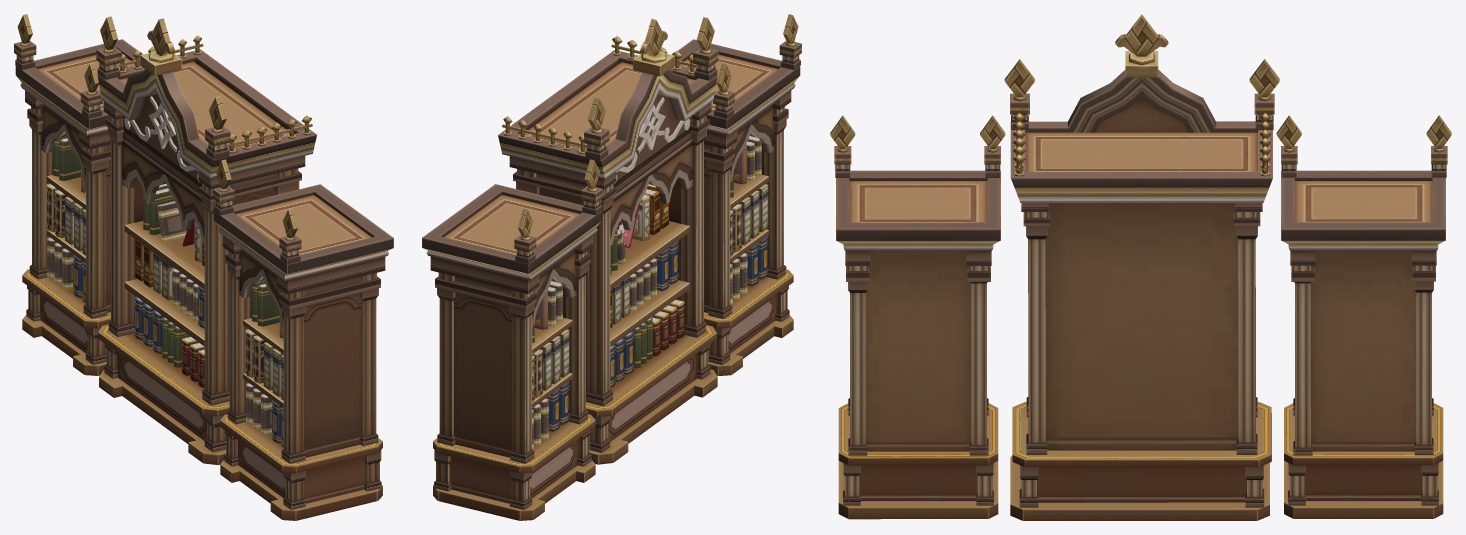
The model's file is my_trinityclassroom_01_bookshelf_01.glb.
The picture shows the model from 3 angles, left to right: view 1: azimuth 30°, elevation 25°; view 2: azimuth 150°, elevation 25°; view 3: azimuth 270°, elevation 25°; orthographic projection. The views are drawn at different scales.
Visible parts, largest first — view 1: my_trinityclassroom_01_bookshelf_01; view 2: my_trinityclassroom_01_bookshelf_01; view 3: my_trinityclassroom_01_bookshelf_01.
Boxes of the visible parts, x1,y1,x2,y2 form: my_trinityclassroom_01_bookshelf_01: (14, 14, 393, 520); my_trinityclassroom_01_bookshelf_01: (422, 14, 801, 520); my_trinityclassroom_01_bookshelf_01: (830, 14, 1451, 520).
Bounding box in the file's own units: 0.00554 × 0.0192 × 0.0238.
2 materials, 2 textured.
